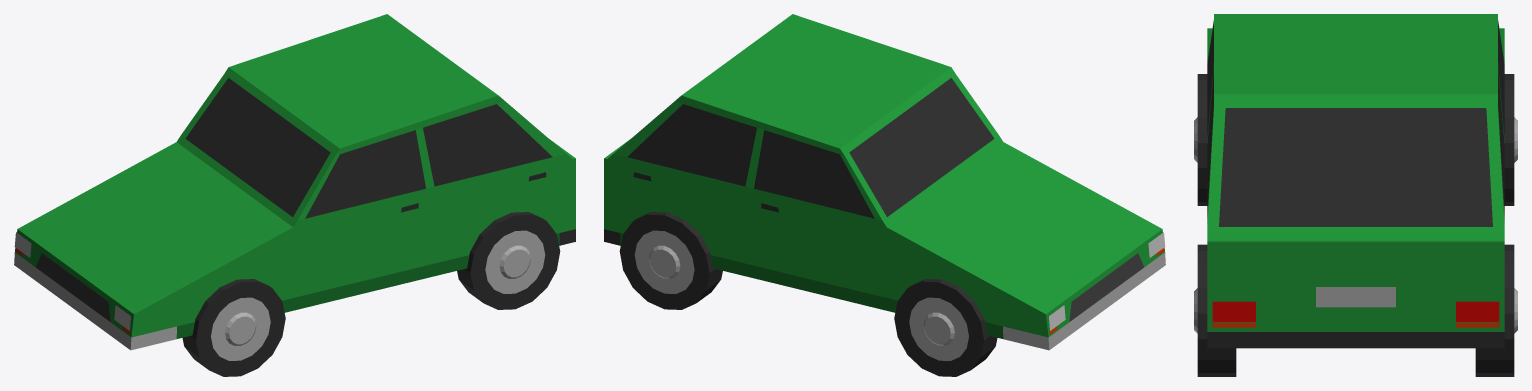
The model's file is Car1c.fbx.
The picture shows the model from 3 angles, left to right: view 1: azimuth 30°, elevation 25°; view 2: azimuth 150°, elevation 25°; view 3: azimuth 270°, elevation 25°; orthographic projection. The views are drawn at different scales.
Parts seen in each view (by area): view 1: Car1c, Car1c_FL, Car1c_RL; view 2: Car1c, Car1c_FR, Car1c_RR; view 3: Car1c, Car1c_RL, Car1c_RR, Car1c_FL, Car1c_FR.
Part boxes in pixels (x1,y1,x2,y2): Car1c: (14, 14, 575, 350); Car1c_FL: (182, 279, 285, 376); Car1c_RL: (457, 212, 560, 309); Car1c: (604, 14, 1165, 350); Car1c_FR: (894, 279, 997, 376); Car1c_RR: (619, 212, 722, 309); Car1c: (1207, 14, 1504, 348); Car1c_RL: (1194, 244, 1236, 376); Car1c_RR: (1475, 244, 1517, 376); Car1c_FL: (1194, 74, 1207, 205); Car1c_FR: (1504, 74, 1517, 205).
Size of the model in its own units: 3.43 by 1.56 by 1.69.
